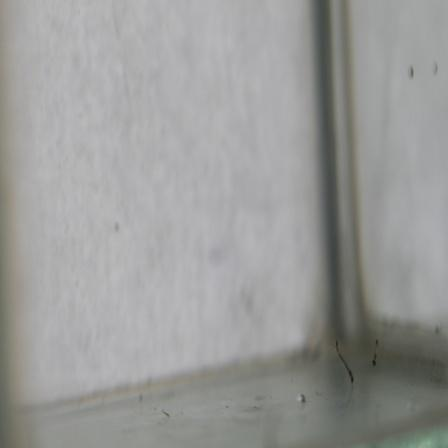Jentik-Nyamuk: (330, 332, 358, 388), (367, 335, 382, 371)
